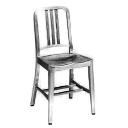chair_success: (24, 4, 98, 127)
